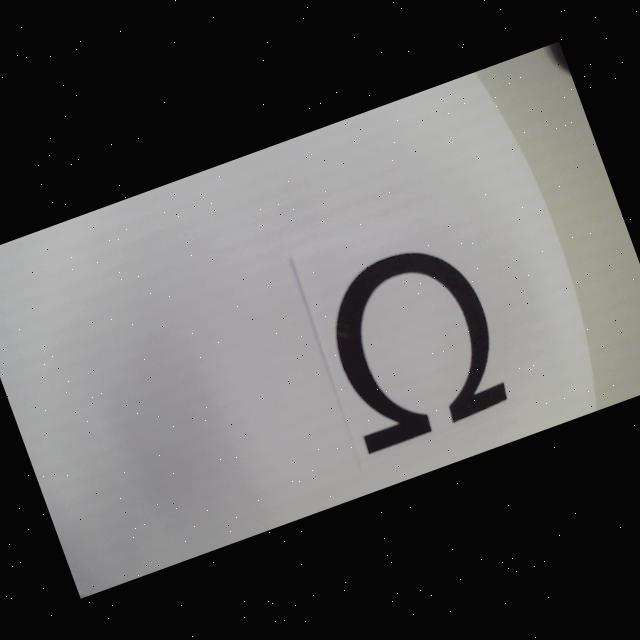OMEGA: (308, 232, 518, 455)
